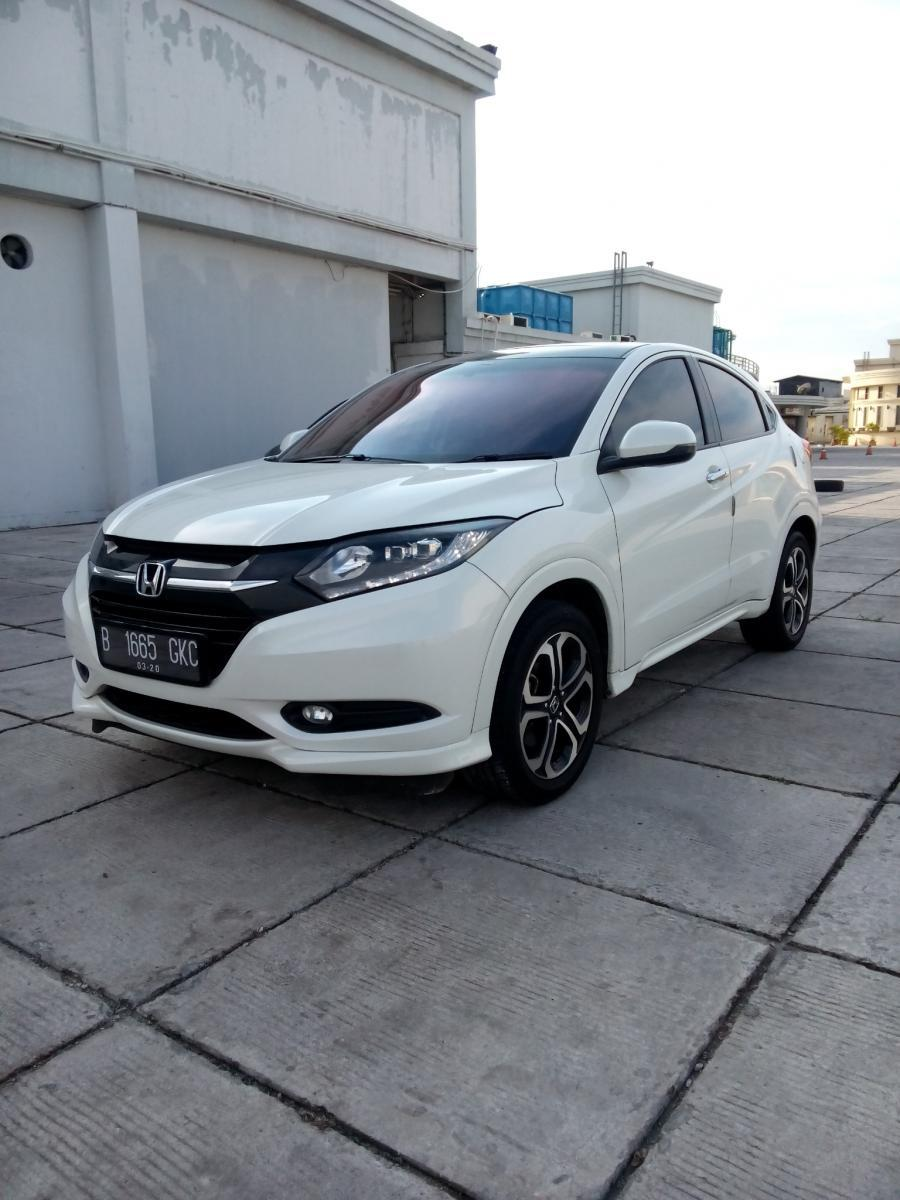plate: (93, 614, 211, 691)
